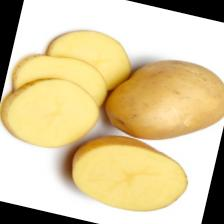potato: (97, 45, 224, 157), (62, 125, 196, 224)
